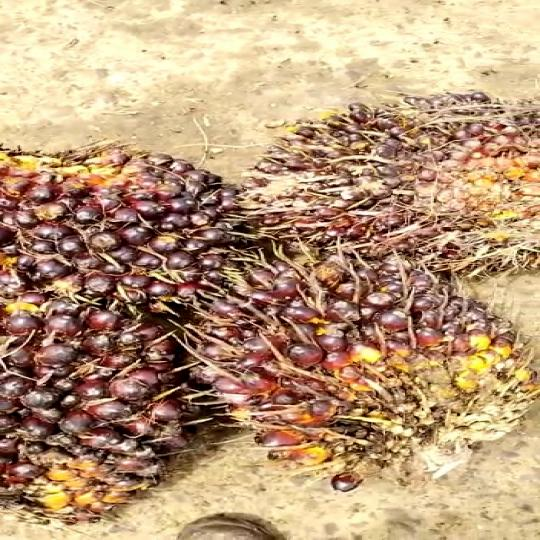kurang masak: (178, 254, 538, 481), (259, 94, 540, 280), (0, 124, 248, 330), (0, 300, 221, 524)
